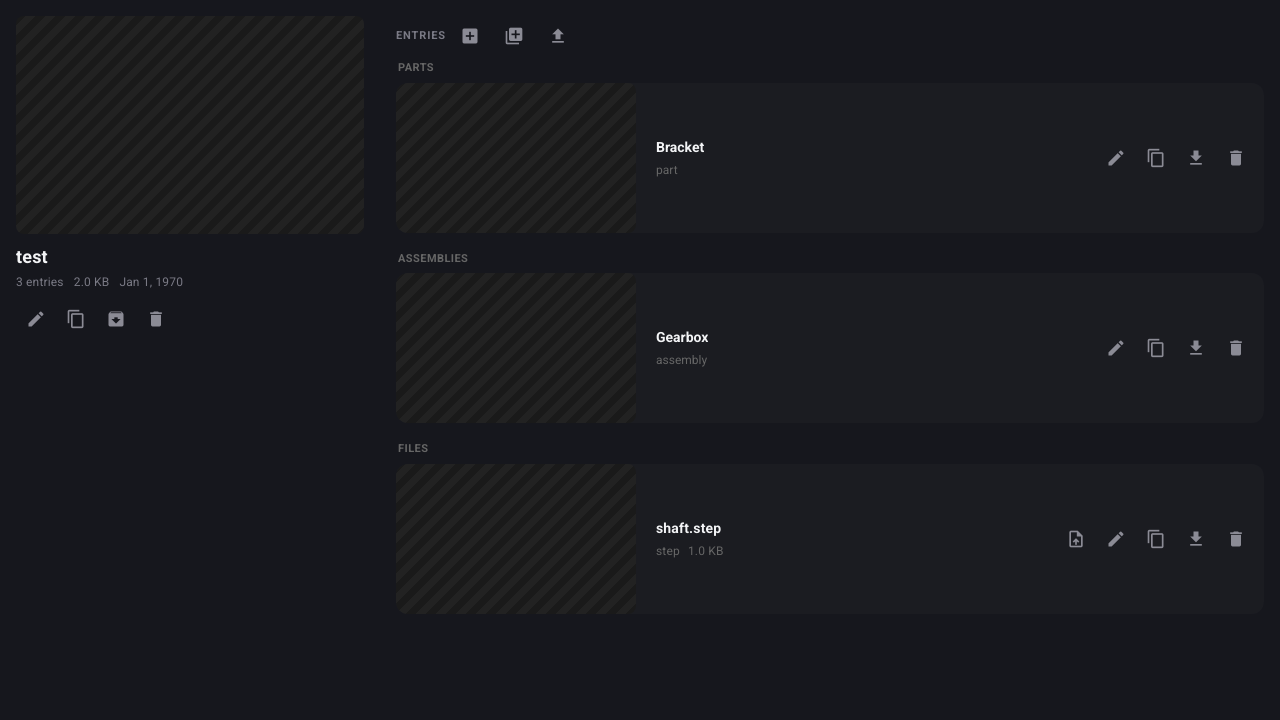
Scenario: WorkspaceView › names the referrers when a delete is refused
Check: the text "Bracket" is shown, box x1=656 y1=136 x2=704 y2=158
What coordinates should you click on to do the following:
click the button named "Delete Bracket"
I would click on:
 (1236, 158)
Its box is x1=1216 y1=138 x2=1256 y2=178.
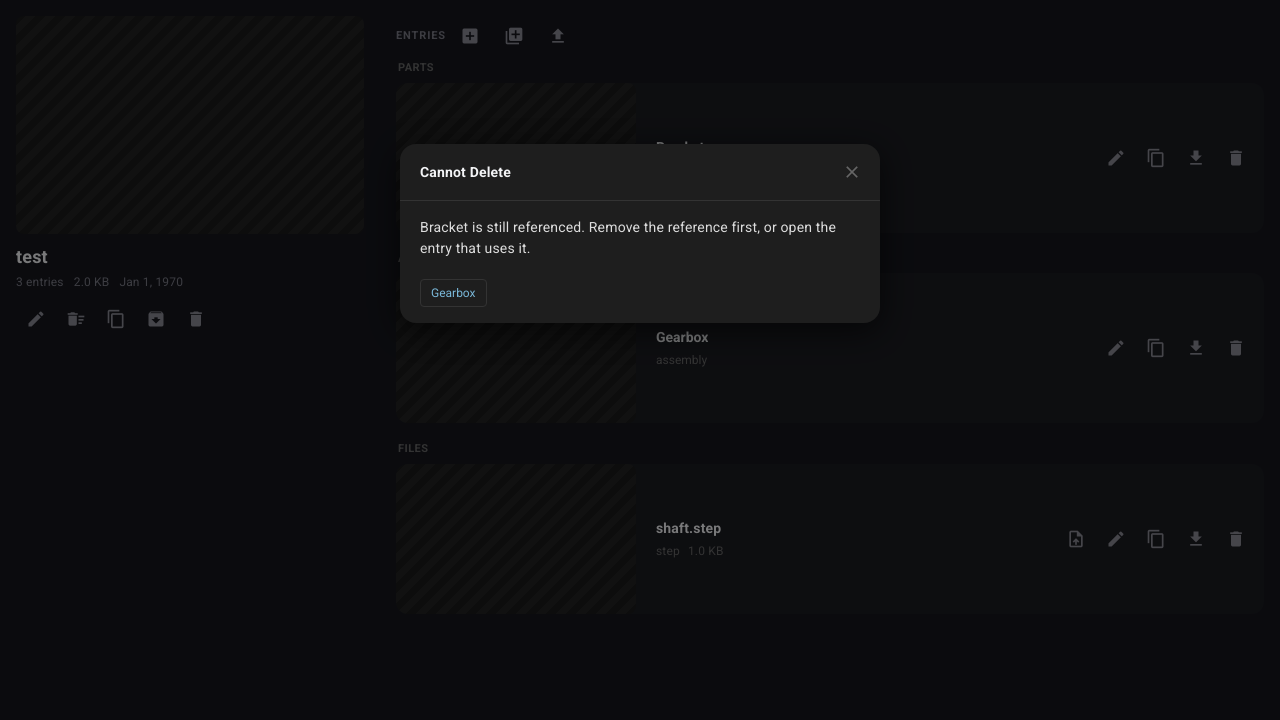
Check: the heading "Cannot Delete" is shown, box x1=420 y1=164 x2=511 y2=180
